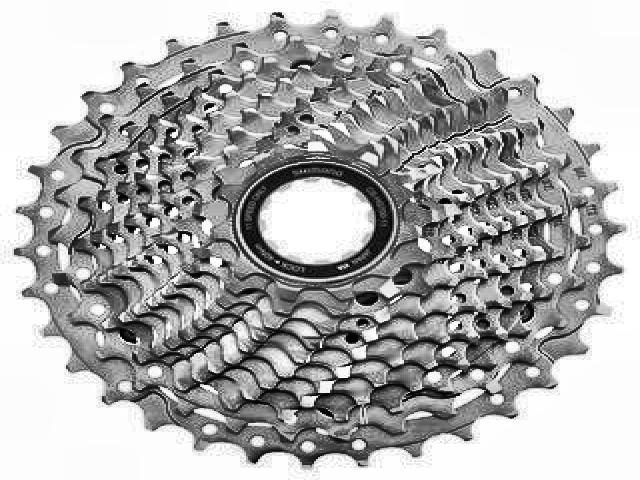cassette: (16, 11, 625, 469)
